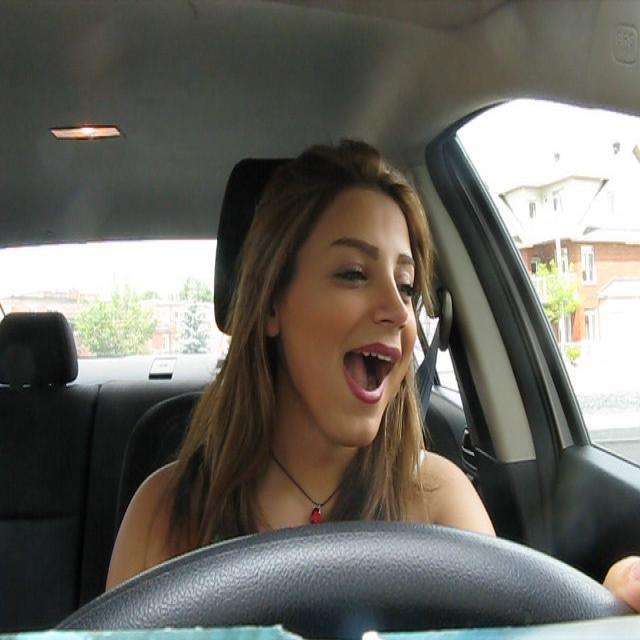open: (321, 237, 383, 290), (391, 247, 417, 308)
